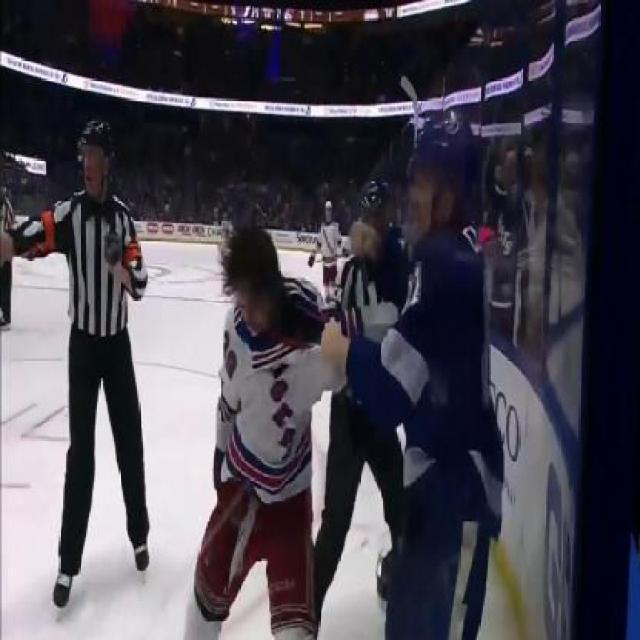fight: (198, 103, 504, 640)
